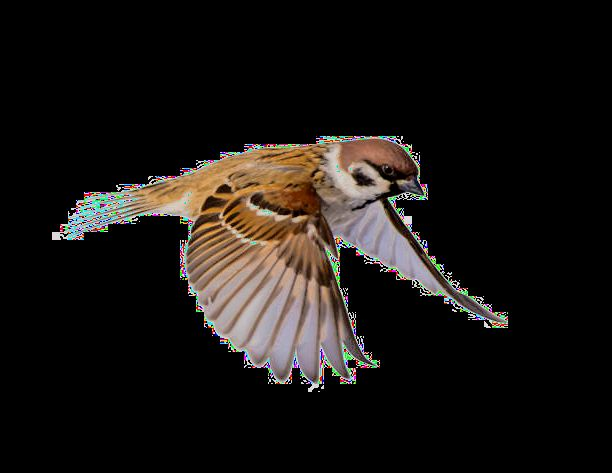Bird: (53, 131, 515, 392)
